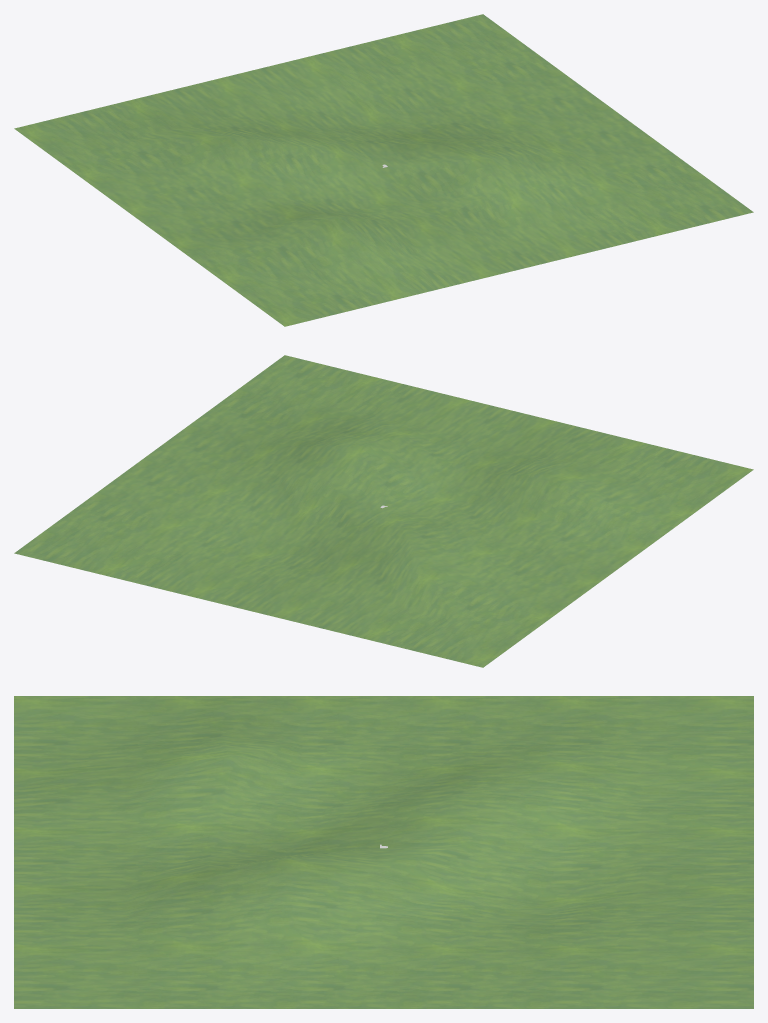
File: terrain.glb
3 views of the same model, one above another, from view 1: azimuth 30°, elevation 25°; view 2: azimuth 150°, elevation 25°; view 3: azimuth 270°, elevation 25° (orthographic). The views are drawn at different scales.
Parts seen in each view (by area): view 1: Terrain-col; view 2: Terrain-col; view 3: Terrain-col.
Boxes of the visible parts, x1,y1,x2,y2 form: Terrain-col: (14, 14, 753, 326); Terrain-col: (14, 355, 753, 667); Terrain-col: (14, 696, 753, 1008).
Size of the model in its own units: 60.18 by 4.02 by 60.18.
Materials: 2 (2 with a texture image).
